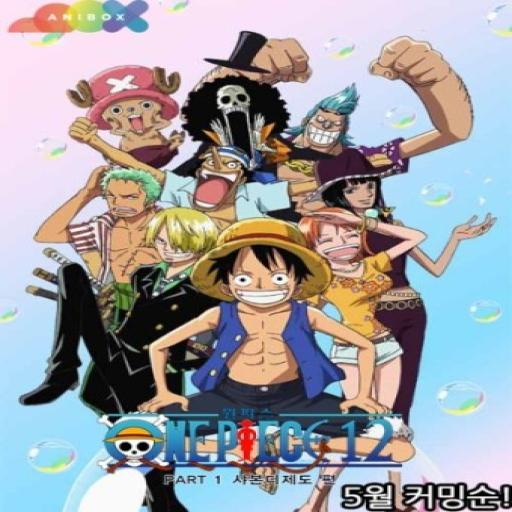Luffy: (206, 221, 322, 315)
Nami: (295, 208, 382, 272)
NicoRobin: (307, 158, 402, 218)
Usopp: (170, 140, 254, 214)
Zoro: (95, 168, 171, 223)
sanji: (142, 205, 218, 275)
